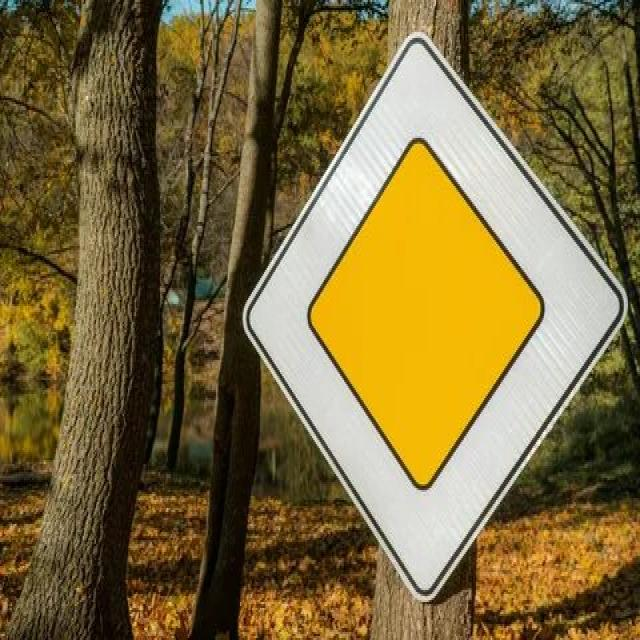signs: (240, 30, 627, 602)
